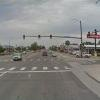Car: (9, 49, 22, 66)
